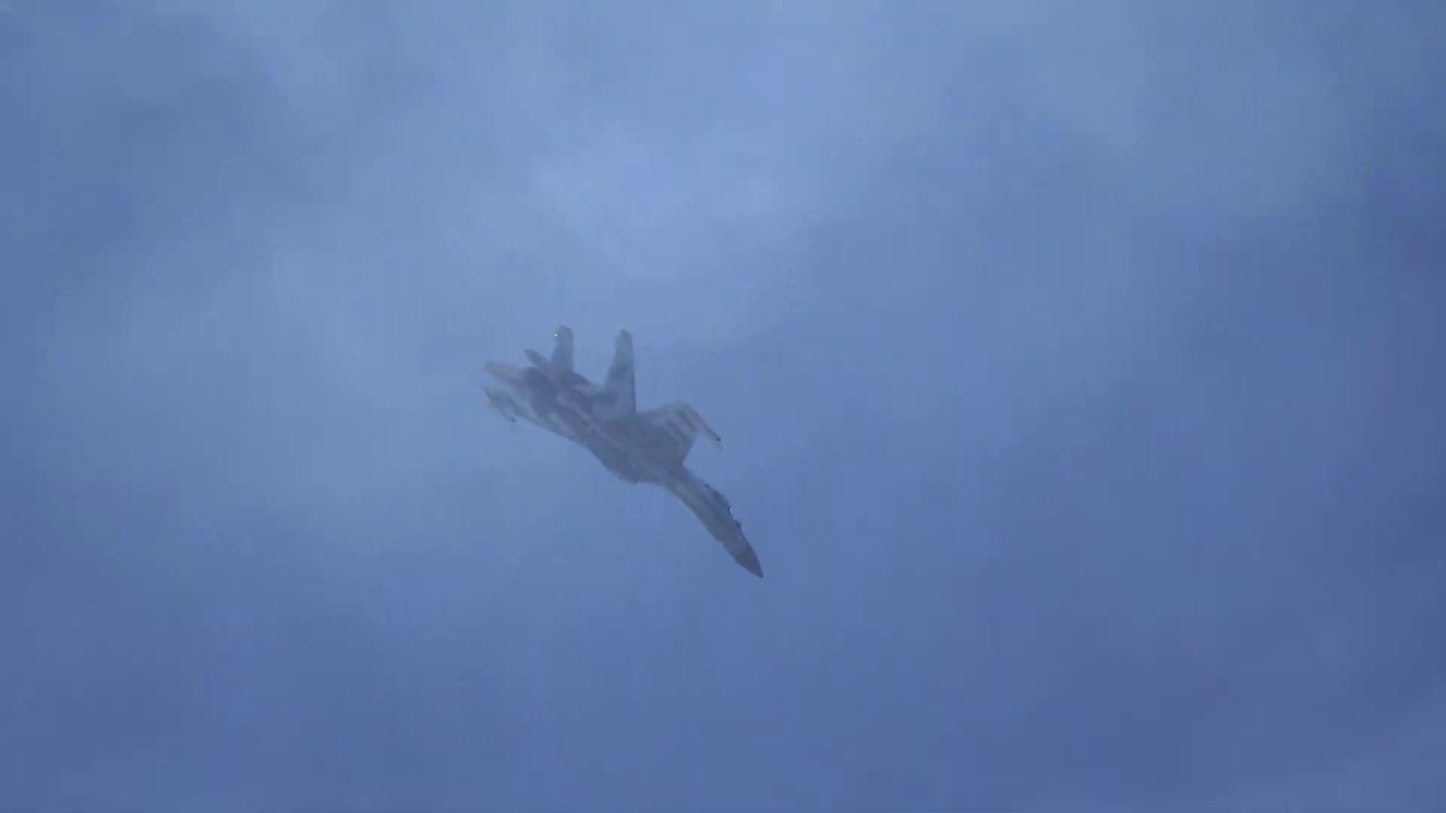Su35: (482, 324, 764, 578)
